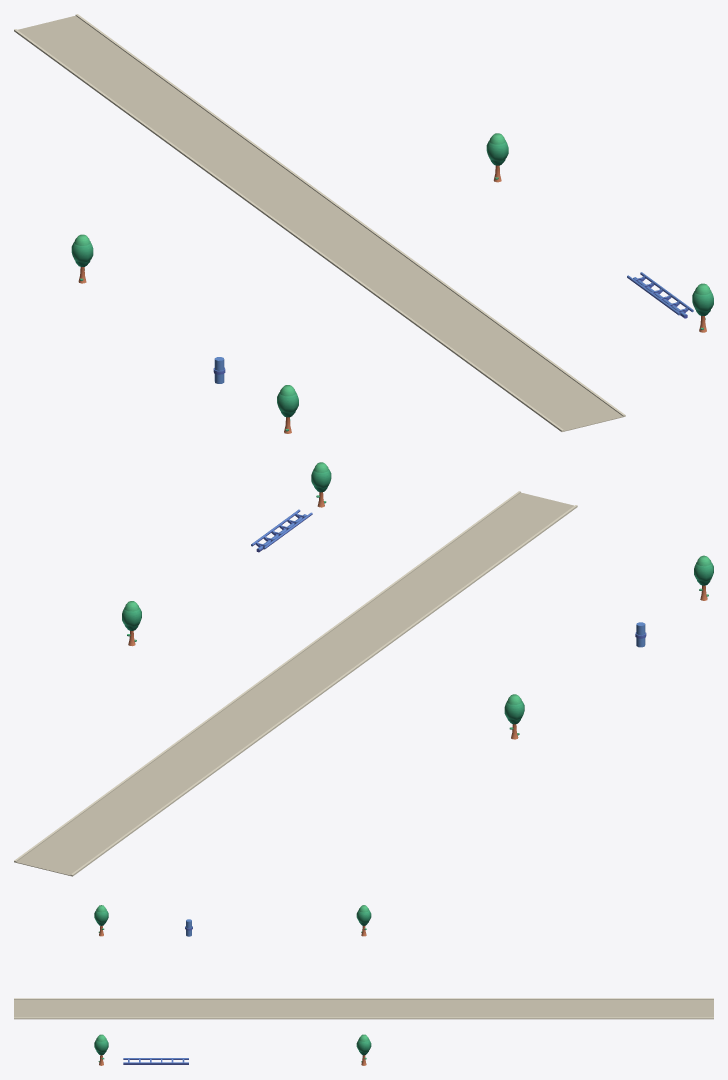
Rendered from gardens-1-2.glb.
3 views of the same model, one above another, from view 1: azimuth 30°, elevation 25°; view 2: azimuth 150°, elevation 25°; view 3: azimuth 270°, elevation 25° (orthographic). The views are drawn at different scales.
Visible parts, largest first — view 1: gardens-1-2; view 2: gardens-1-2; view 3: gardens-1-2.
Boxes of the visible parts, left/top/right/bottom form: gardens-1-2: left=14, top=14, right=713, bottom=433; gardens-1-2: left=14, top=462, right=713, bottom=876; gardens-1-2: left=14, top=905, right=713, bottom=1065.
Size of the model in its own units: 117 by 11.76 by 256.
8 materials, 6 textured.
